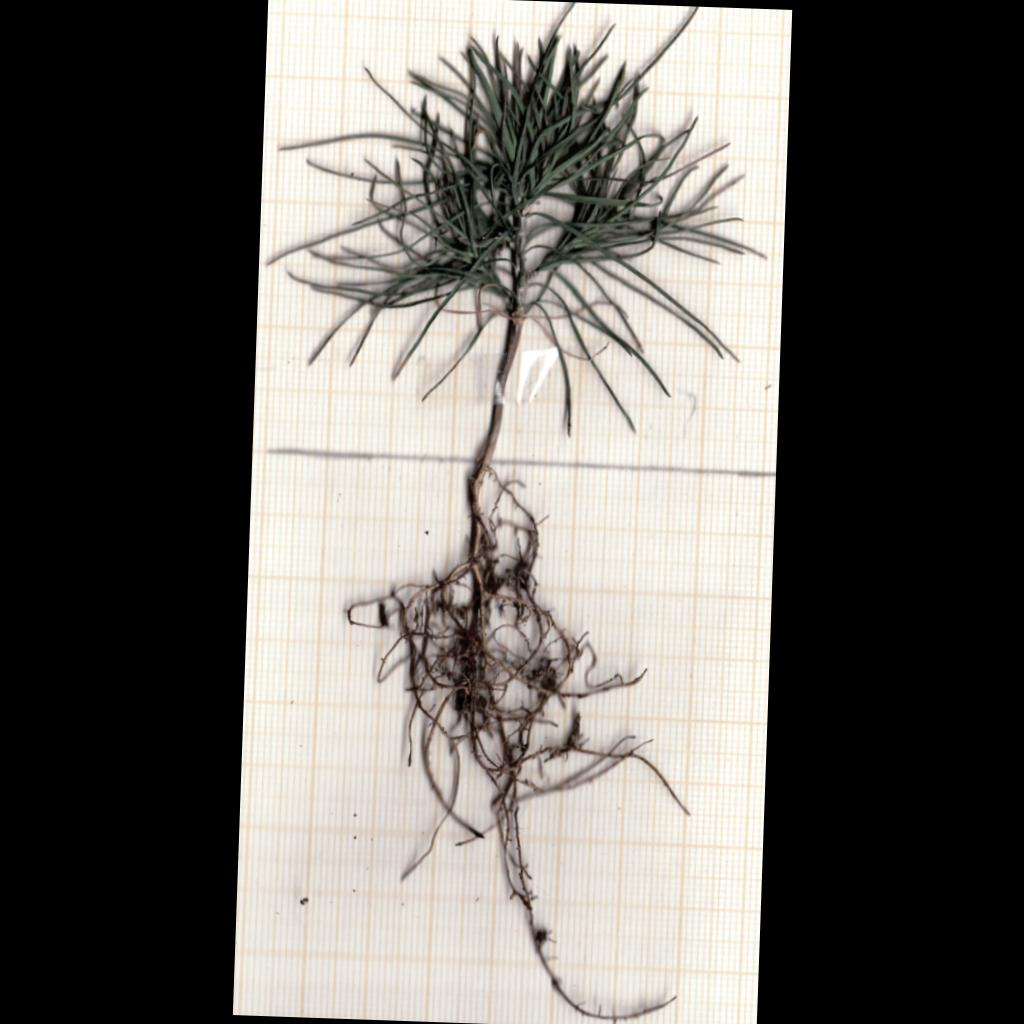flowerCedr: (271, 2, 750, 433)
rootCedr: (348, 469, 687, 1021)
stemCedr: (468, 312, 524, 509)
